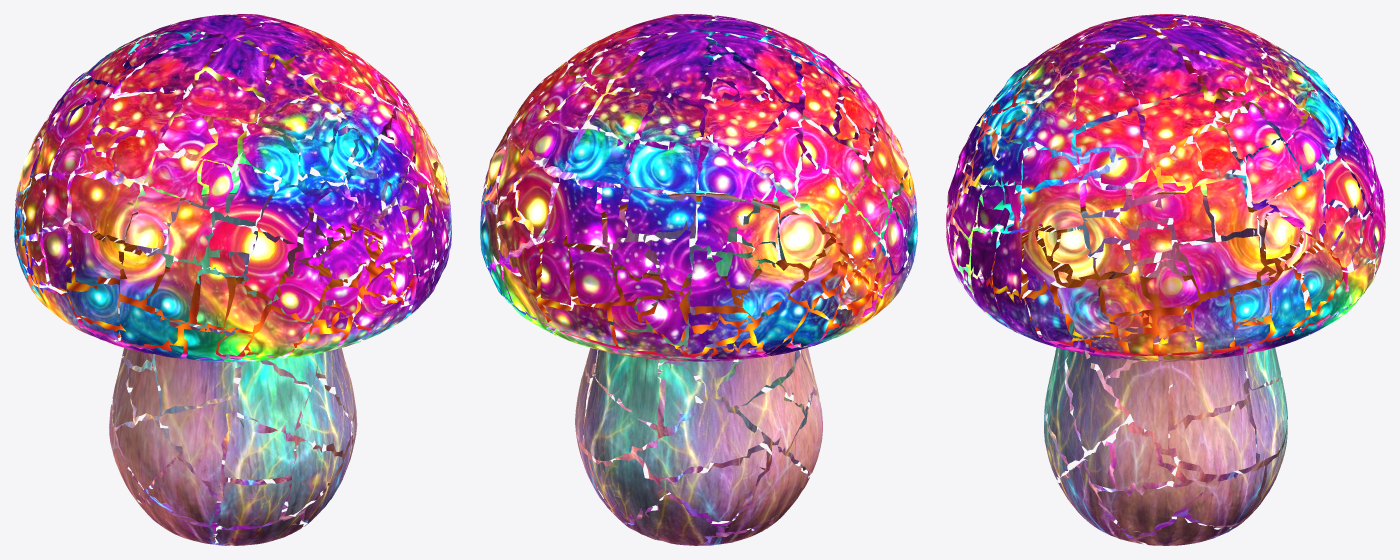
The model's file is champignon.glb.
The picture shows the model from 3 angles, left to right: view 1: azimuth 30°, elevation 25°; view 2: azimuth 150°, elevation 25°; view 3: azimuth 270°, elevation 25°; orthographic projection.
Visible parts, largest first — view 1: mesh; view 2: mesh; view 3: mesh.
Boxes of the visible parts, x1,y1,x2,y2 form: mesh: (14, 14, 451, 545); mesh: (480, 14, 917, 545); mesh: (946, 14, 1385, 545).
Size of the model in its own units: 1.55 by 1.9 by 1.55.
1 material, 1 textured.
